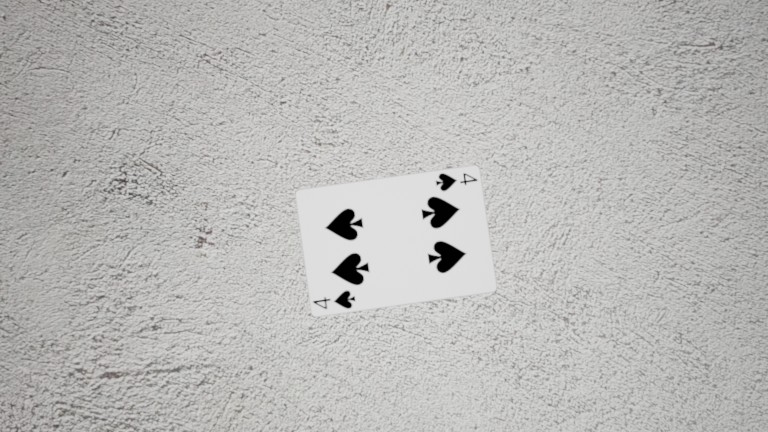4_of_spades: (174, 66, 192, 78), (125, 114, 143, 126)
